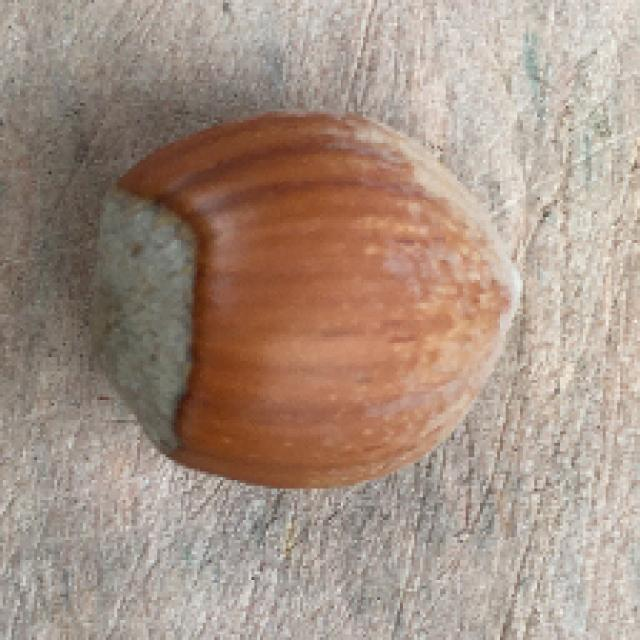qualityHazelnut: (94, 110, 529, 492)
